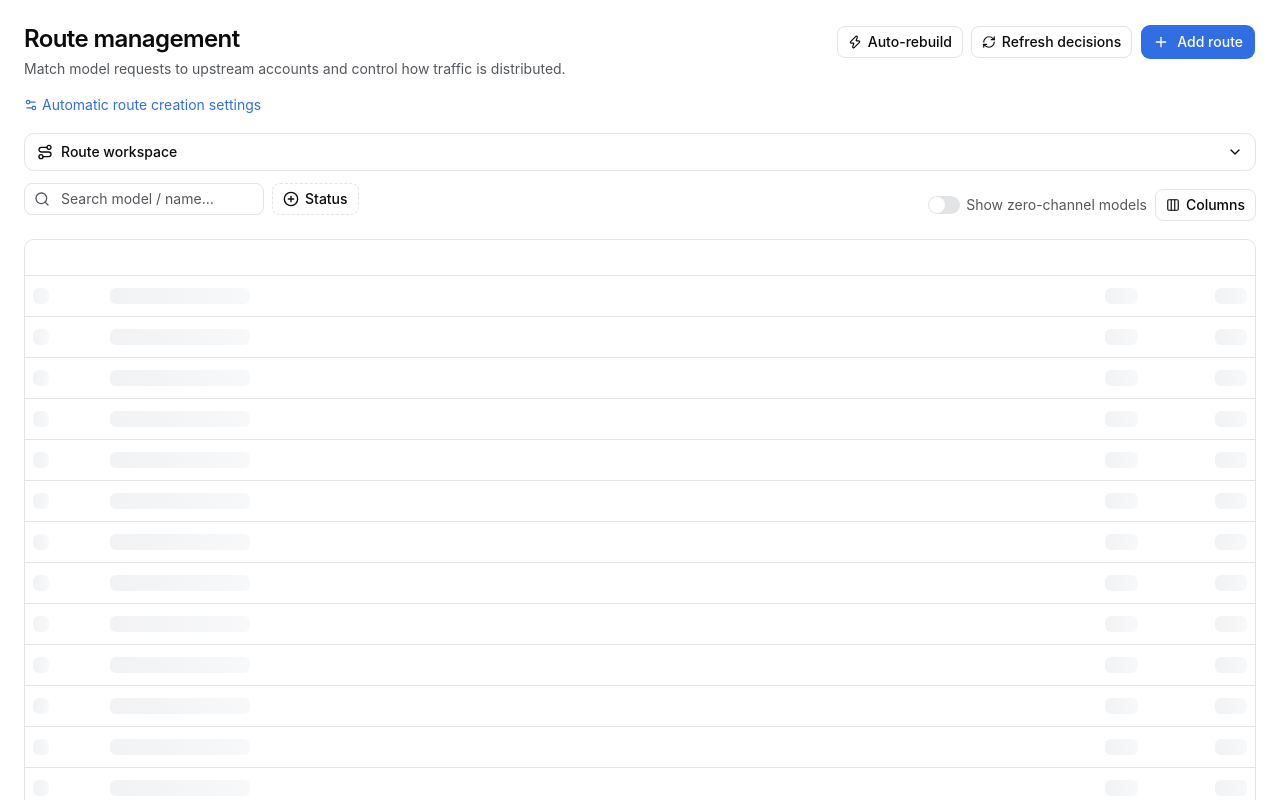
Test: RoutesPage manual account binding from the account snapshot › preserves the site label for an unnamed API-key account from the snapshot
Expected: the heading "Route management" is shown, [24, 24, 240, 53]
Click the button "Add route": (1198, 42) [1140, 24, 1256, 60]
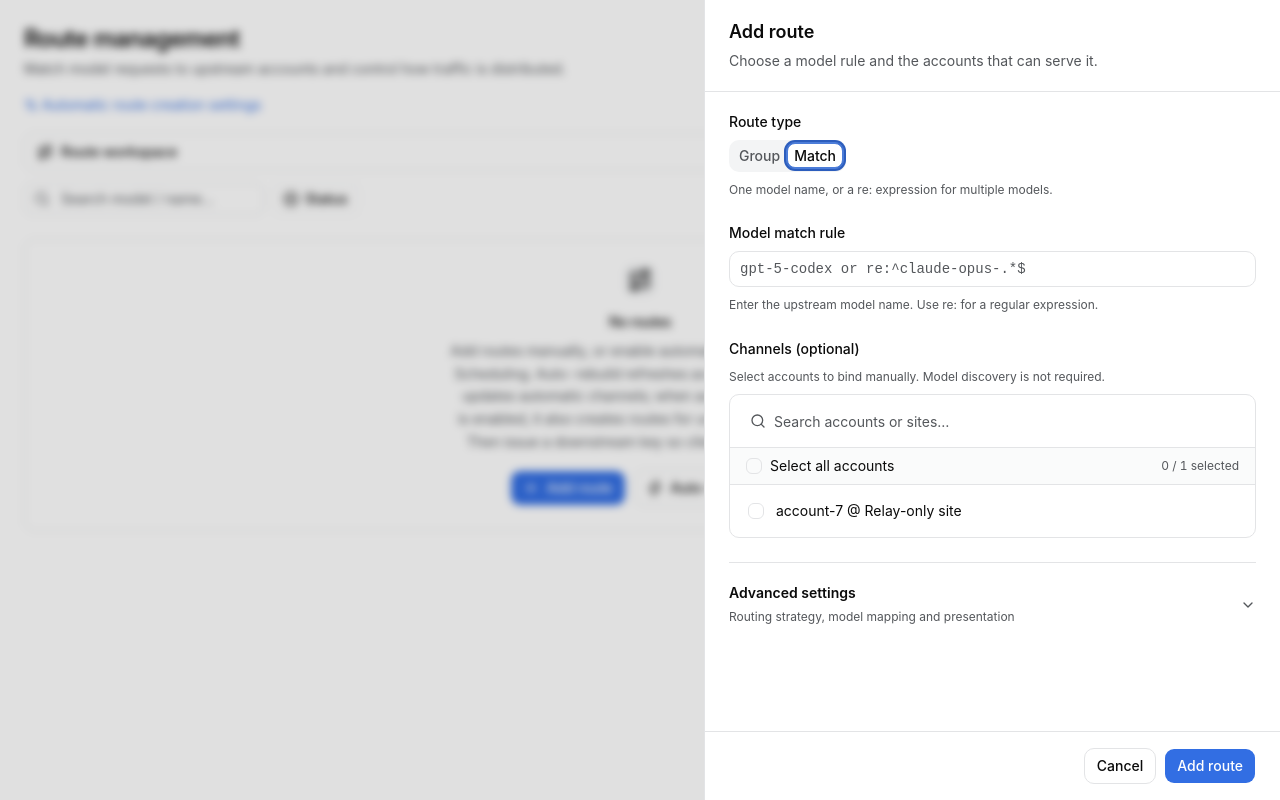
Expected: the checkbox named "account-7 @ Relay-only site" next to "account-7 @ Relay-only site" is enabled, [748, 503, 764, 519]
